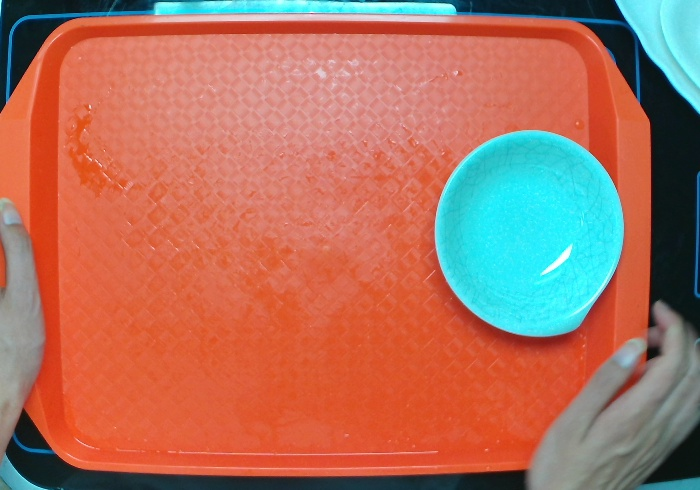RJxy-Xiao_Jiao_Yuan_Wan: (429, 127, 628, 341)
